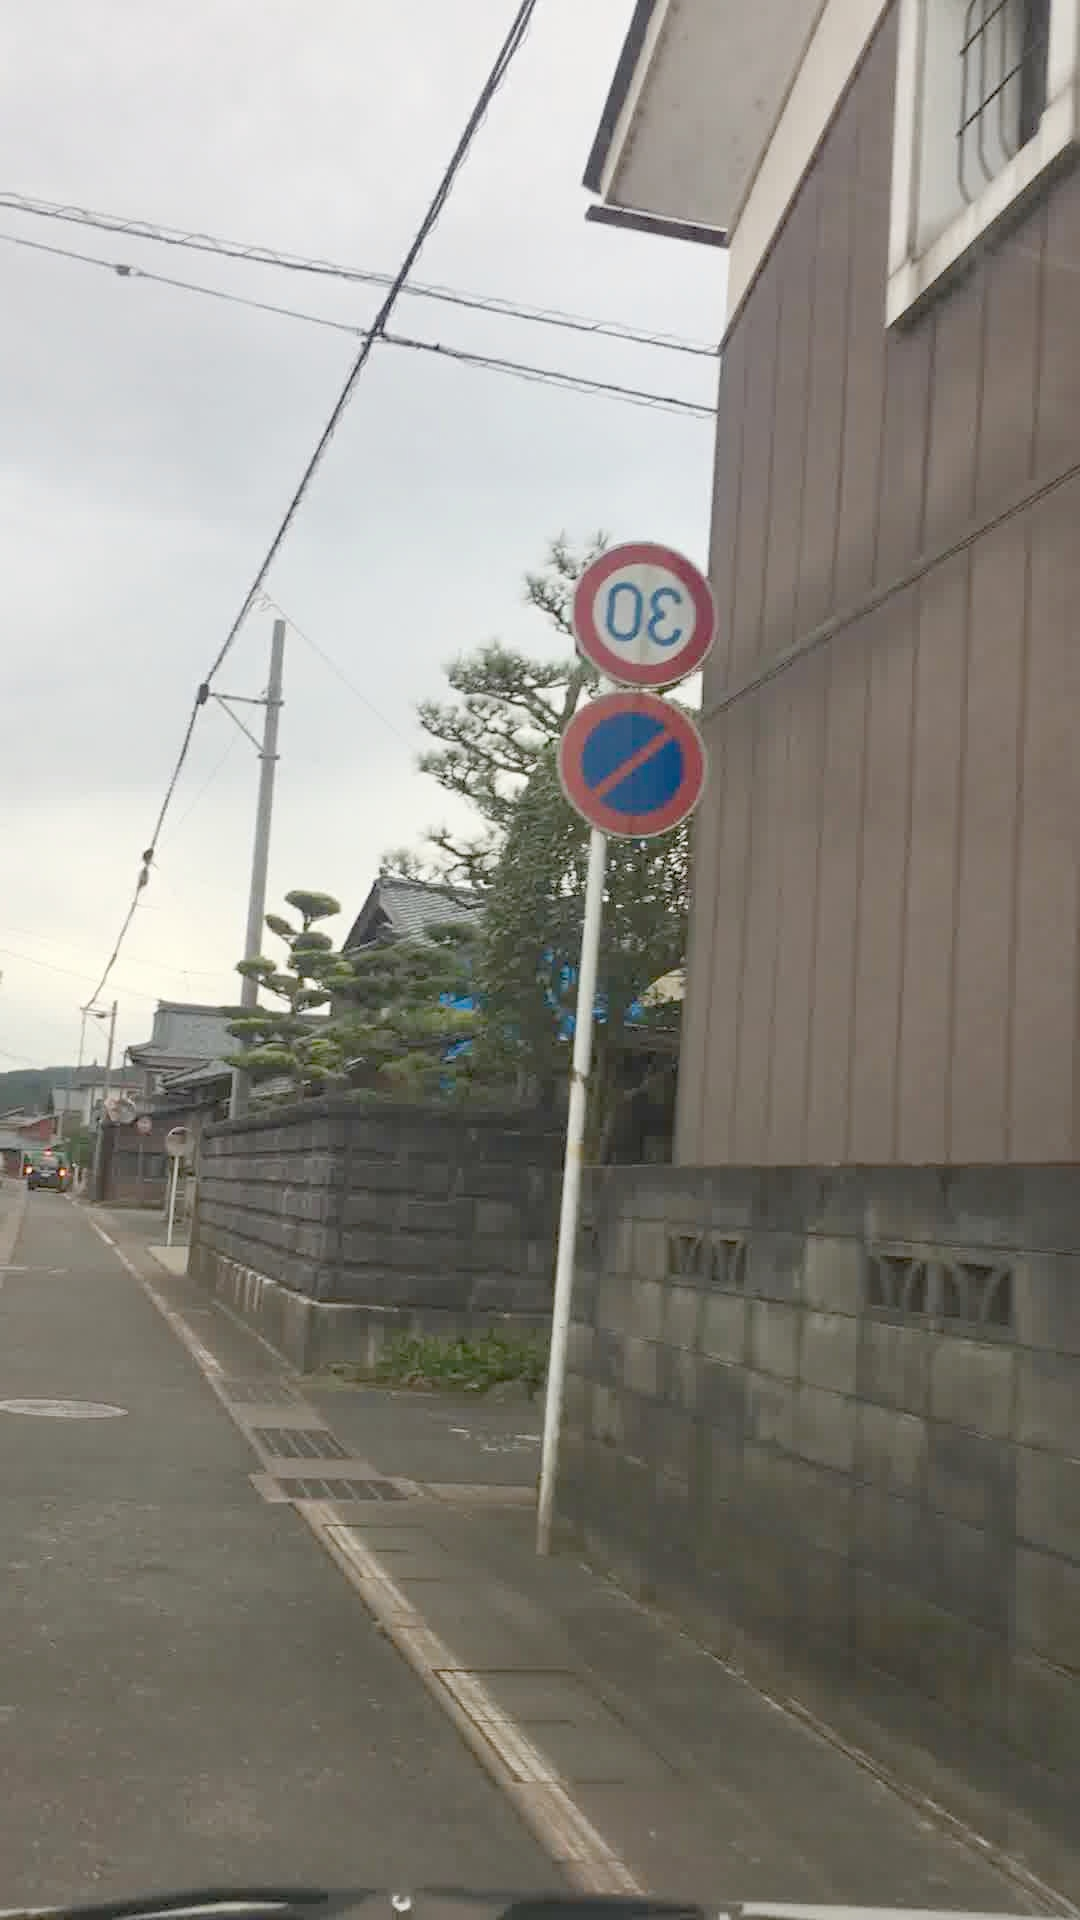Prohibition_sign: (566, 696, 720, 837)
Speed_sign: (574, 545, 740, 700)
